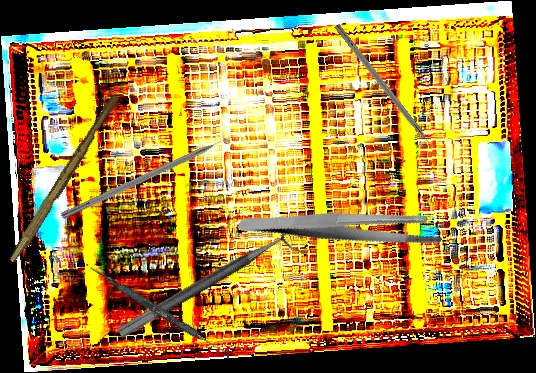Dressing Forceps: (237, 164, 447, 289)
Fixation Ring: (115, 223, 312, 355)
Hook Surgical: (60, 131, 240, 222), (332, 23, 441, 159)
Scalpel Handle: (8, 91, 121, 267)
Spatula Surgical: (87, 265, 234, 359)
